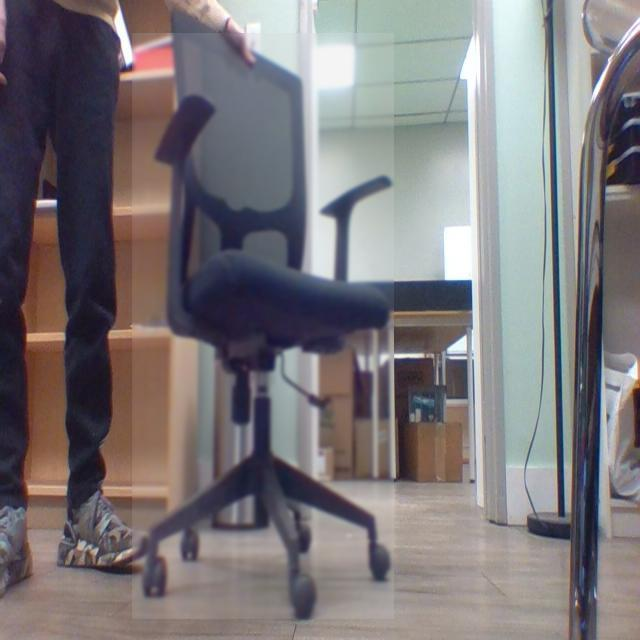chair: (125, 23, 399, 616)
